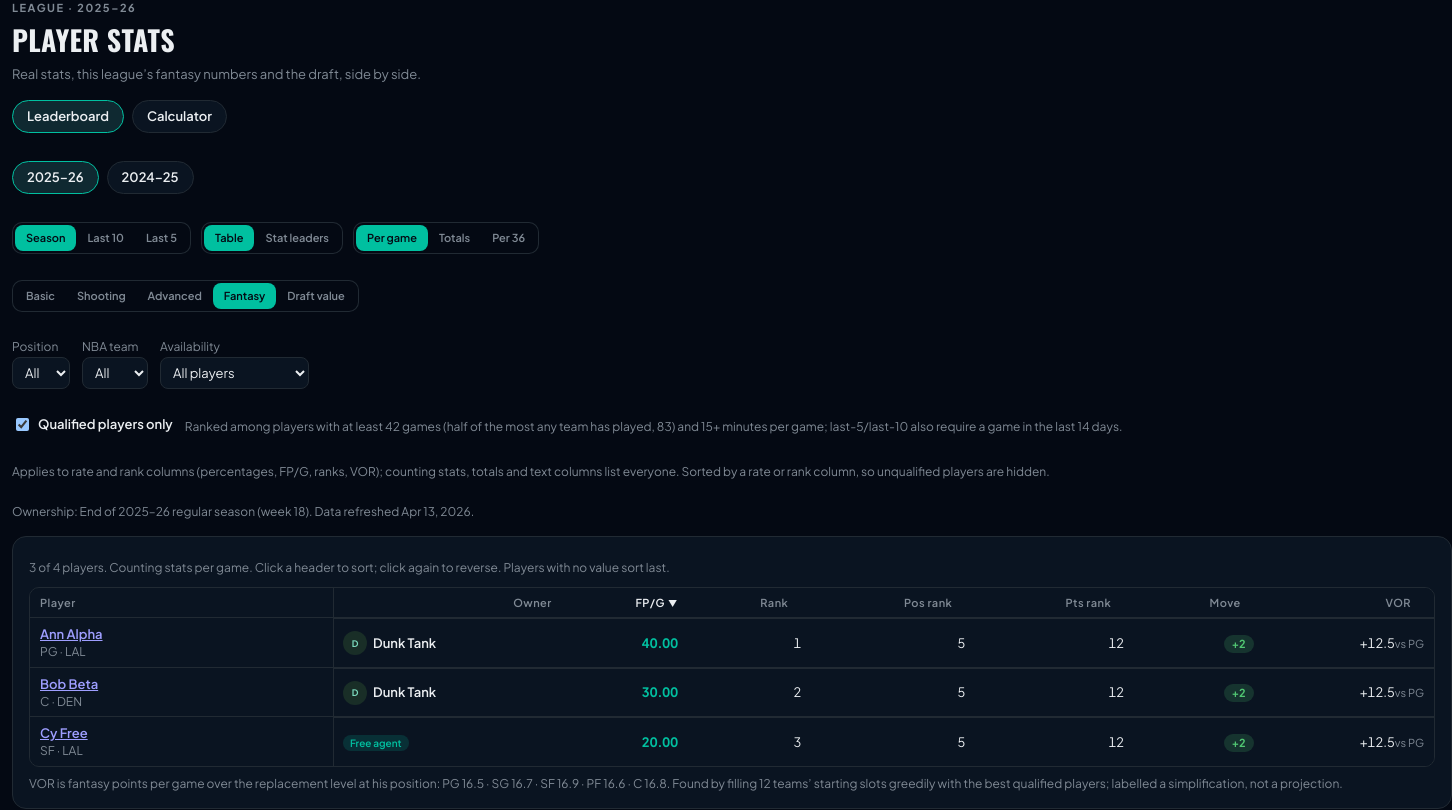
Test case: StatLeaderboard › draft columns › says there is no draft when the league has none
Click the button "Draft value" at [316, 296], box left=276, top=283, right=356, bottom=309
(page scrolled)
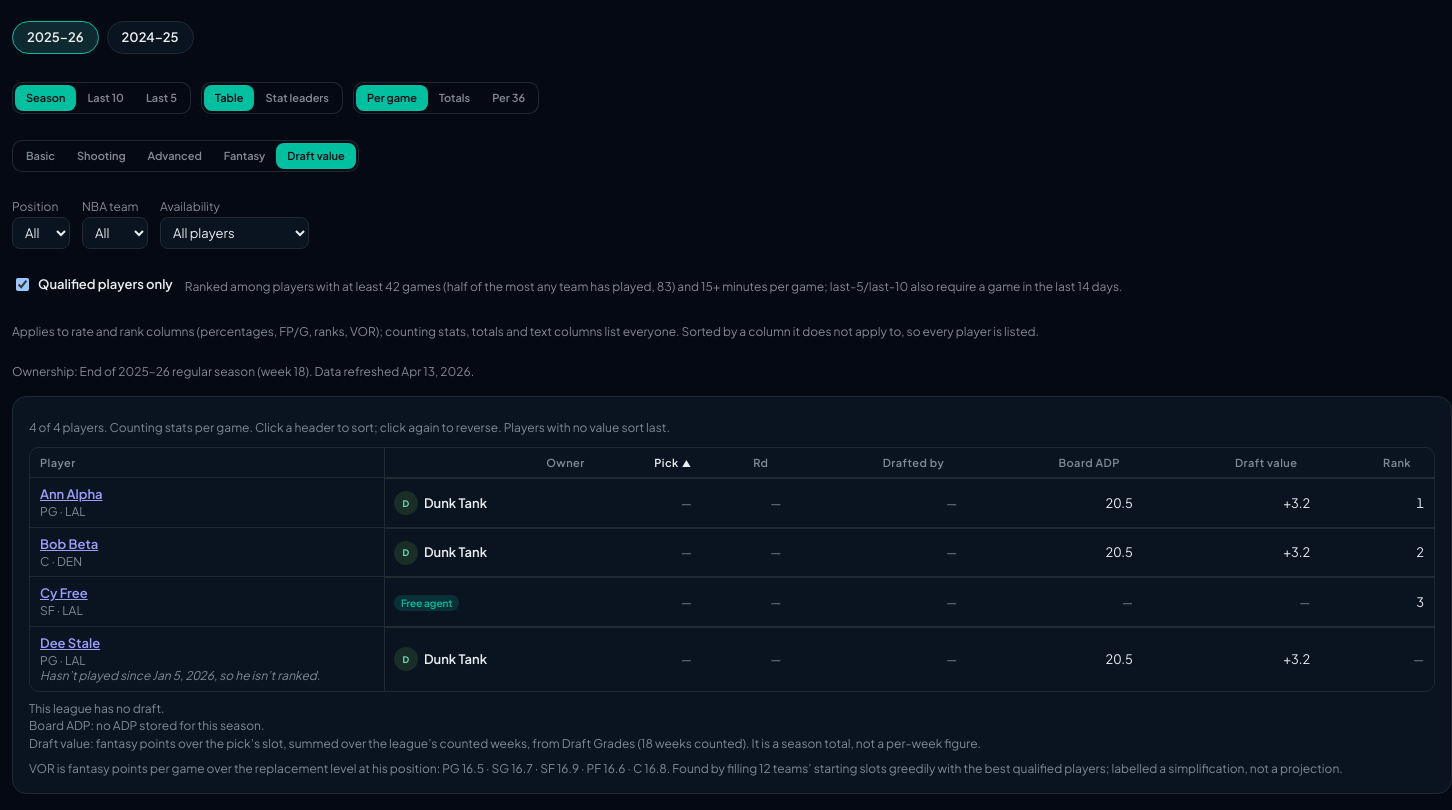
Check: the list item "This league has no draft." is shown, box left=29, top=701, right=164, bottom=716
